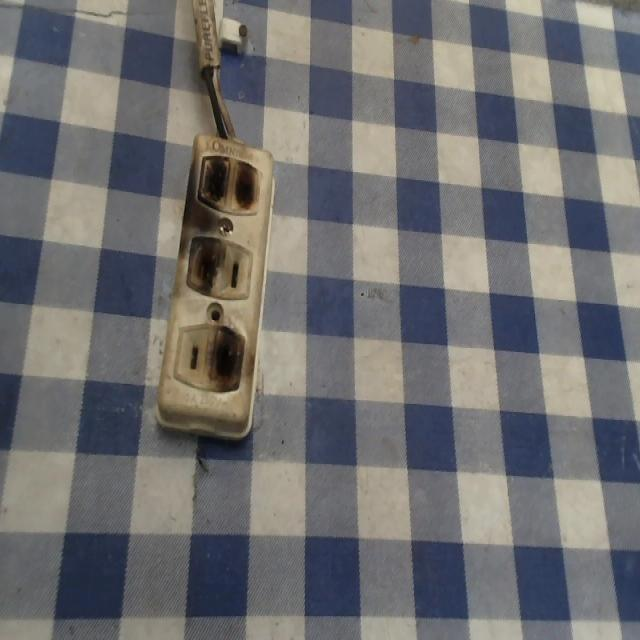-: (186, 152, 272, 219), (204, 323, 250, 405), (178, 236, 229, 296)
